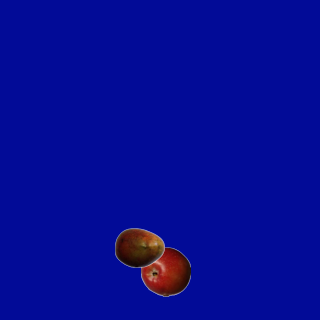Apple Braeburn: (140, 246, 190, 296)
Mango Red: (114, 222, 164, 272)
